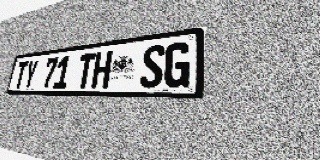1: (53, 56, 71, 89)
7: (41, 57, 59, 89)
G: (163, 41, 191, 88)
H: (91, 51, 113, 88)
S: (139, 44, 166, 88)
T: (75, 53, 96, 88), (13, 61, 29, 89)
Y: (22, 60, 39, 89)
